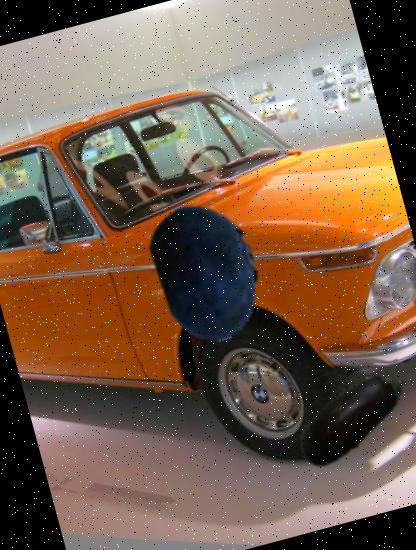Blueberry: (122, 184, 295, 358)
Eggplant: (272, 334, 416, 496)
